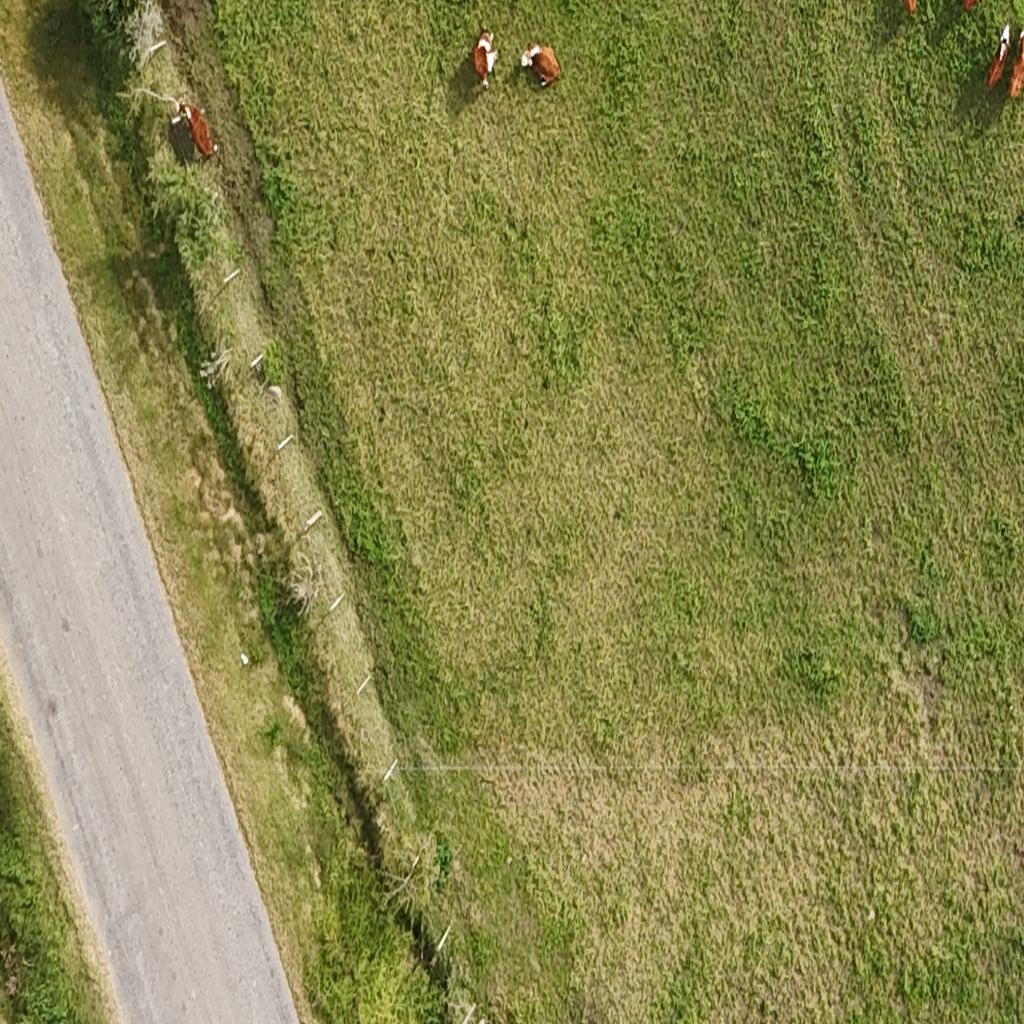cow: (168, 96, 220, 168), (517, 38, 561, 92), (467, 27, 501, 96), (986, 23, 1012, 91), (1012, 24, 1024, 101)
